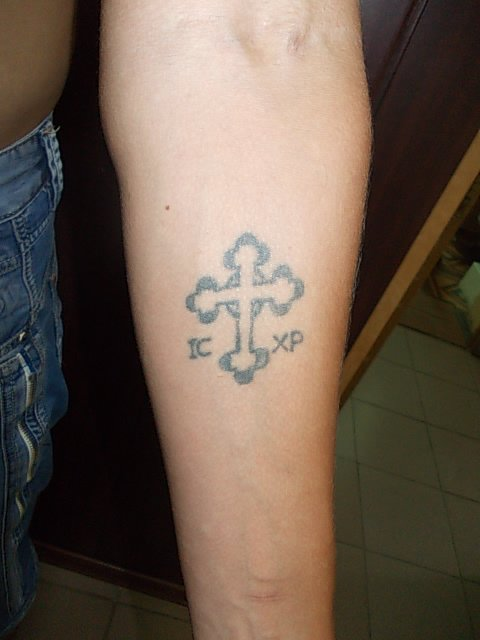tatu9_krest: (178, 225, 321, 395)
